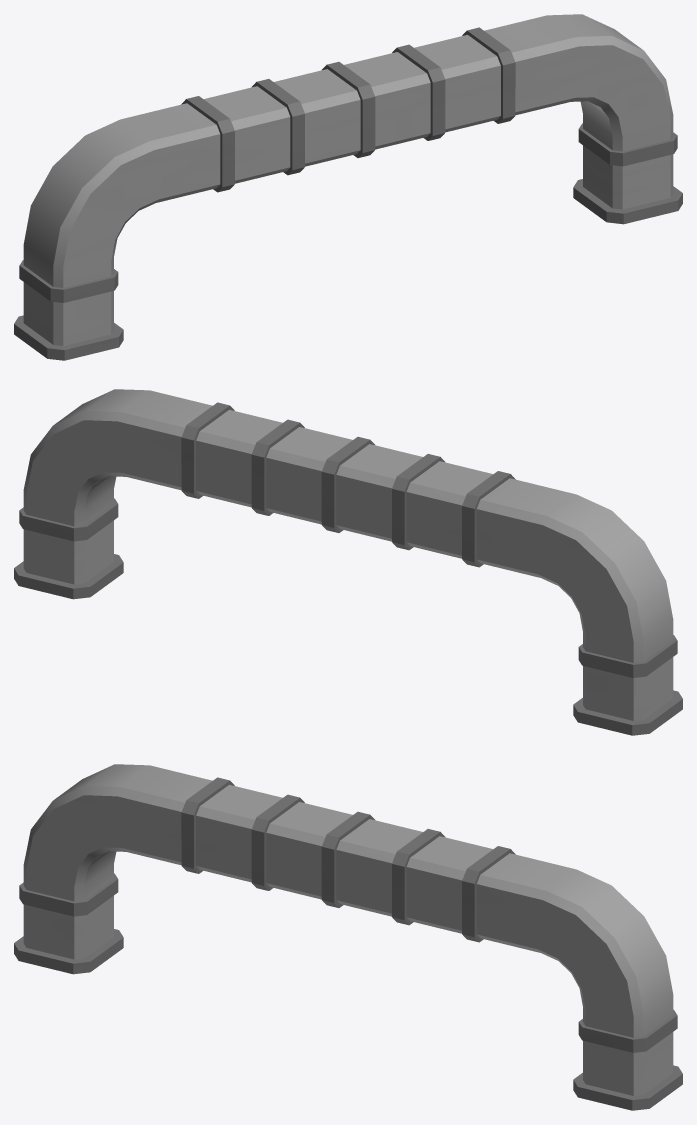
File: Ventilation 2.FBX
3 renders of one model, top to bottom at view 1: azimuth 30°, elevation 25°; view 2: azimuth 150°, elevation 25°; view 3: azimuth 330°, elevation 25°, orthographic.
Visible parts, largest first — view 1: Ventilation 2; view 2: Ventilation 2; view 3: Ventilation 2.
Boxes of the visible parts, x1=… form: Ventilation 2: x1=14, y1=14, x2=682, y2=360; Ventilation 2: x1=14, y1=389, x2=682, y2=735; Ventilation 2: x1=14, y1=764, x2=682, y2=1110.
Bounding box in the file's own units: 0.7331 × 0.2143 × 0.0917.
